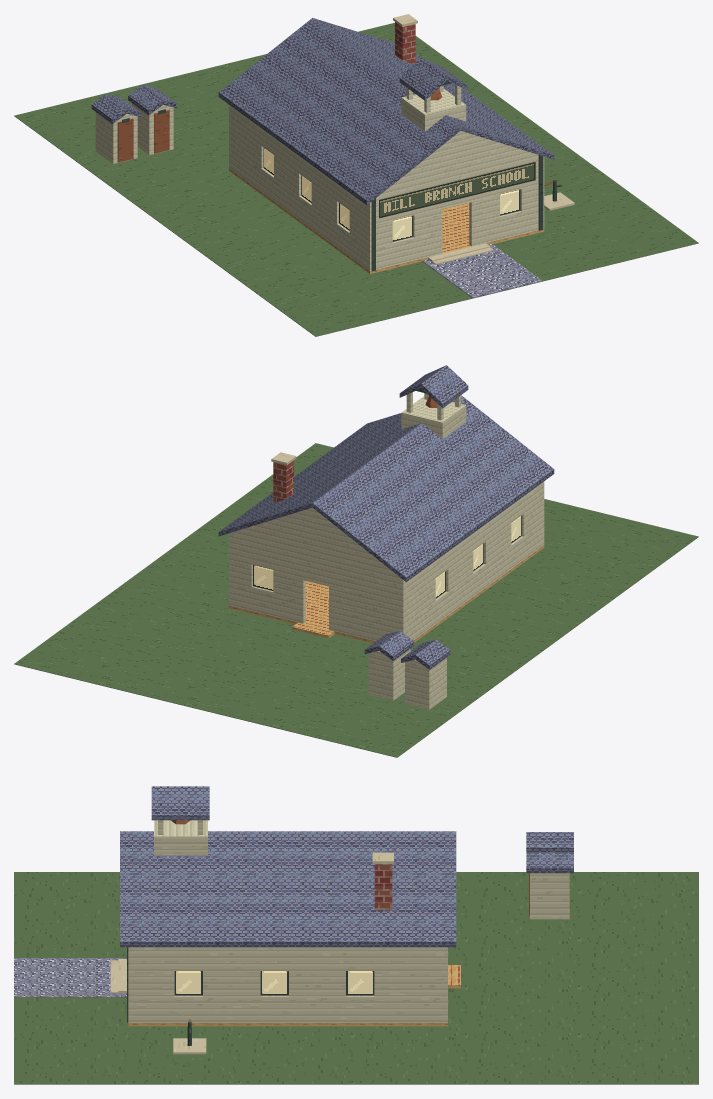
File: mill-branch-active-far.glb
3 renders of one model, top to bottom at view 1: azimuth 30°, elevation 25°; view 2: azimuth 150°, elevation 25°; view 3: azimuth 270°, elevation 25°, orthographic. The views are drawn at different scales.
Visible parts, largest first — view 1: lot, building_shell, sign_name; view 2: lot, building_shell; view 3: lot, building_shell.
Part boxes in pixels (x1,y1,x2,y2): lot: [14, 22, 698, 336]; building_shell: [218, 14, 554, 273]; sign_name: [379, 162, 535, 218]; lot: [14, 443, 698, 757]; building_shell: [218, 365, 554, 643]; lot: [14, 832, 698, 1084]; building_shell: [110, 786, 460, 1026].
Size of what is drawn, in the model's own units: 22 by 9.3 by 30.
Materials: 11 (11 with a texture image).
